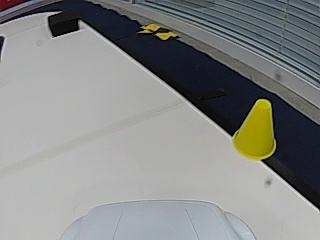block: (47, 12, 79, 37)
cone: (233, 98, 276, 160)
